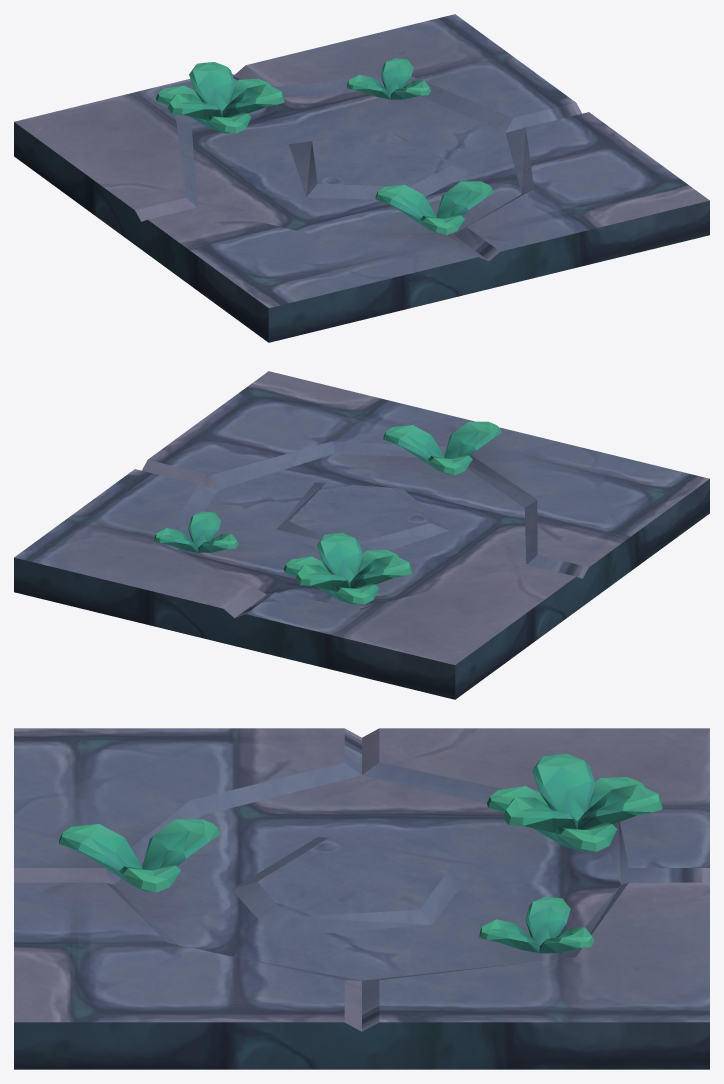
File: floor_tile_small_weeds_A.gltf
3 views of the same model, one above another, from view 1: azimuth 30°, elevation 25°; view 2: azimuth 150°, elevation 25°; view 3: azimuth 270°, elevation 25° (orthographic). The views are drawn at different scales.
Parts seen in each view (by area): view 1: floor_tile_small_weeds_A; view 2: floor_tile_small_weeds_A; view 3: floor_tile_small_weeds_A.
Boxes of the visible parts, x1,y1,x2,y2 form: floor_tile_small_weeds_A: (14, 14, 709, 342); floor_tile_small_weeds_A: (14, 371, 709, 699); floor_tile_small_weeds_A: (14, 728, 709, 1069).
Size of the model in its own units: 2 by 0.2955 by 2.
8 materials, 2 textured.
